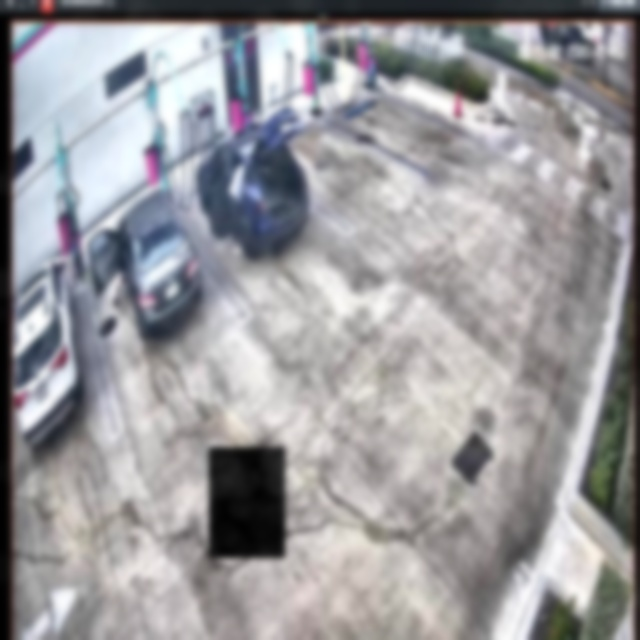Car: (195, 108, 308, 256), (93, 185, 201, 333)
